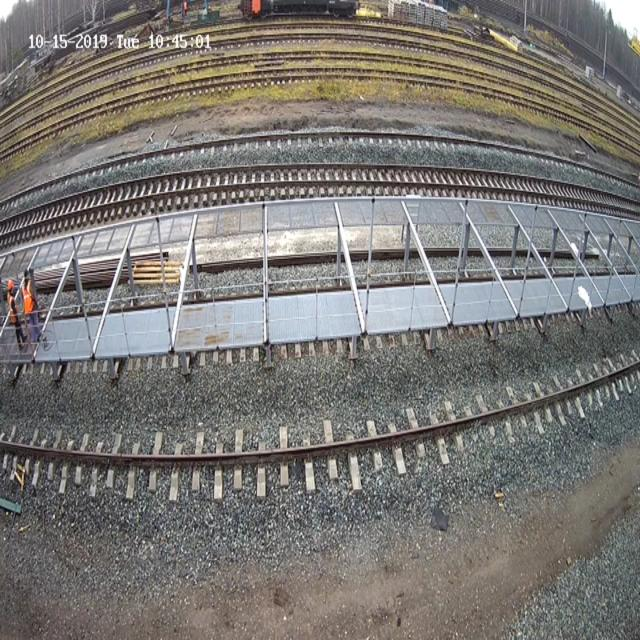Helmet: (7, 279, 14, 290)
Person: (21, 273, 41, 363), (8, 280, 22, 340)
